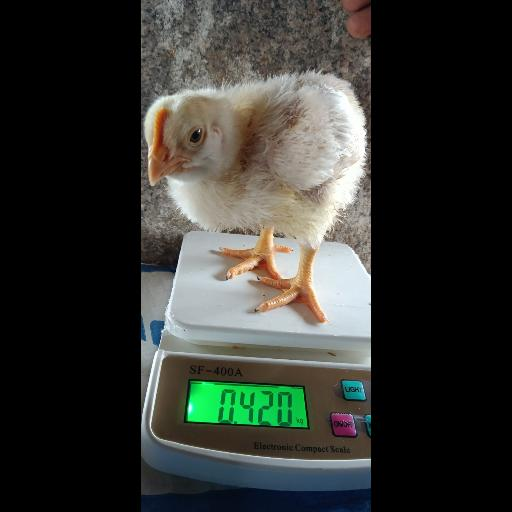chick: (144, 75, 366, 323)
